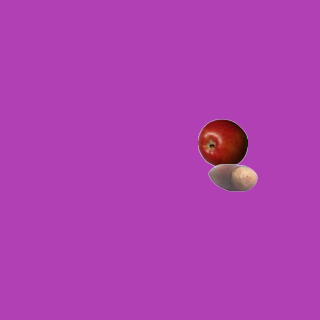Apple Braeburn: (197, 118, 247, 168)
Hazelnut: (207, 152, 257, 202)
